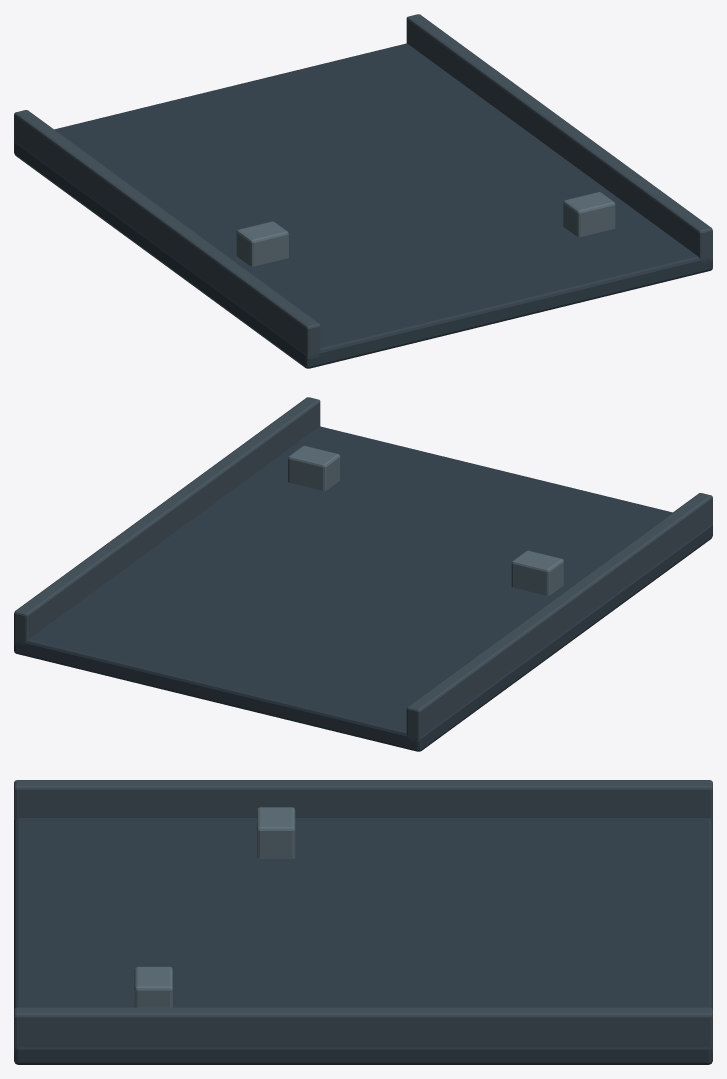
The model's file is rooftop_lod2.glb.
The picture shows the model from 3 angles, top to bottom: view 1: azimuth 30°, elevation 25°; view 2: azimuth 150°, elevation 25°; view 3: azimuth 270°, elevation 25°; orthographic projection. The views are drawn at different scales.
Visible parts, largest first — view 1: ND_Batch_ND_RooftopMetal, ND_Batch_ND_CityConcrete, ND_Batch_ND_CityConcreteLight; view 2: ND_Batch_ND_RooftopMetal, ND_Batch_ND_CityConcrete, ND_Batch_ND_CityConcreteLight; view 3: ND_Batch_ND_RooftopMetal, ND_Batch_ND_CityConcrete, ND_Batch_ND_CityConcreteLight.
Part boxes in pixels (x1,y1,x2,y2): ND_Batch_ND_RooftopMetal: [14, 43, 712, 368]; ND_Batch_ND_CityConcrete: [14, 14, 712, 359]; ND_Batch_ND_CityConcreteLight: [236, 192, 615, 266]; ND_Batch_ND_RooftopMetal: [14, 426, 712, 751]; ND_Batch_ND_CityConcrete: [14, 397, 712, 742]; ND_Batch_ND_CityConcreteLight: [288, 446, 563, 595]; ND_Batch_ND_RooftopMetal: [14, 818, 712, 1064]; ND_Batch_ND_CityConcrete: [14, 780, 712, 1052]; ND_Batch_ND_CityConcreteLight: [134, 807, 295, 1007].
Size of the model in its own units: 16 by 1.63 by 20.
